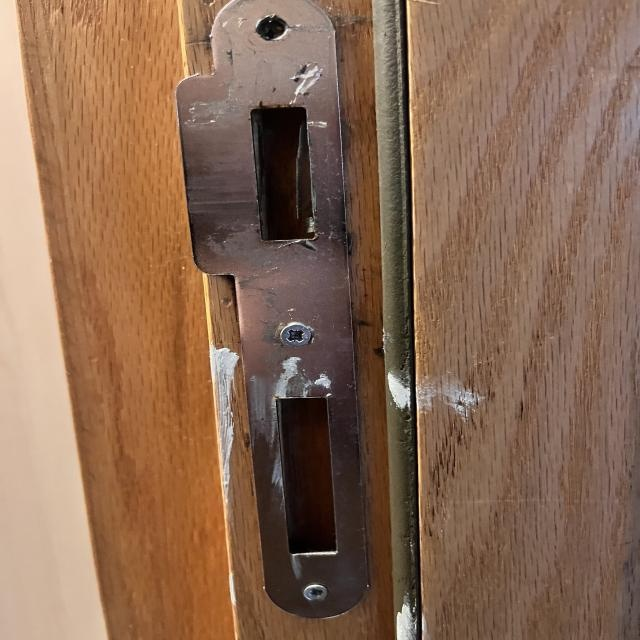pozidriv: (280, 324, 312, 347)
